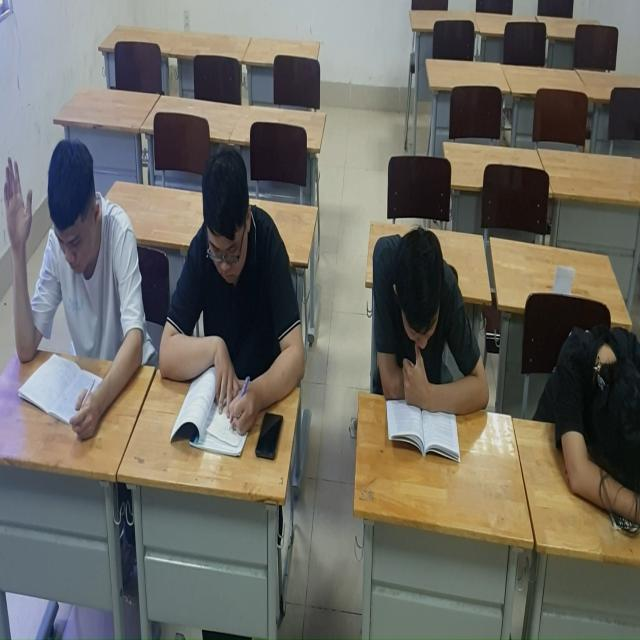raise_hand: (3, 112, 144, 451)
read: (151, 140, 309, 471), (369, 201, 492, 470)
sleep: (541, 295, 640, 524)
